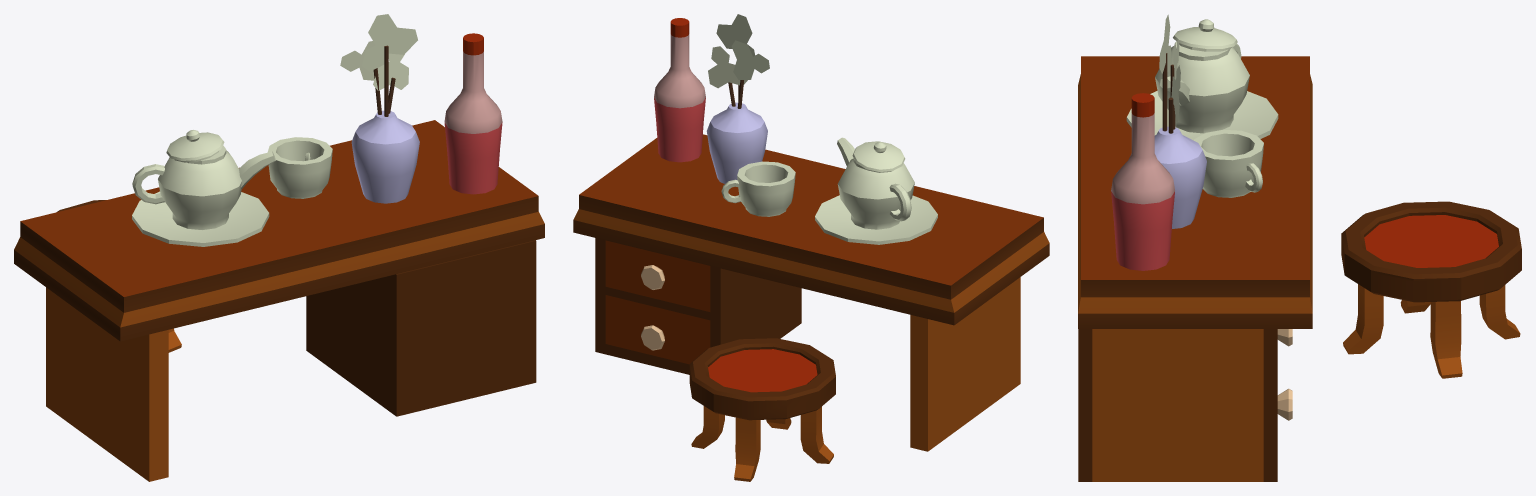
3 views of the same model, side by side, from view 1: azimuth 30°, elevation 25°; view 2: azimuth 150°, elevation 25°; view 3: azimuth 270°, elevation 25° (orthographic). The views are drawn at different scales.
Visible parts, largest first — view 1: mr 3; view 2: mr 3; view 3: mr 3.
Boxes of the visible parts, bbox=[...] form: mr 3: bbox=[14, 14, 544, 481]; mr 3: bbox=[573, 14, 1049, 481]; mr 3: bbox=[1078, 14, 1521, 481].
Size of the model in its own units: 298 by 250 by 244.
